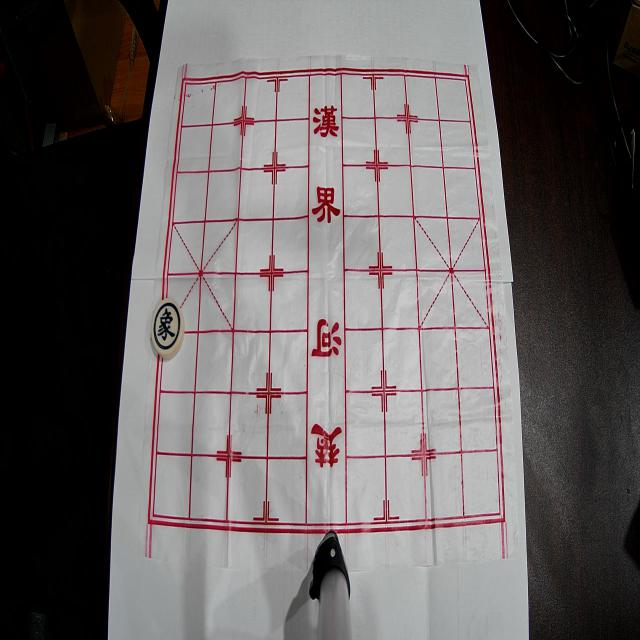black-elephant: (152, 297, 184, 359)
